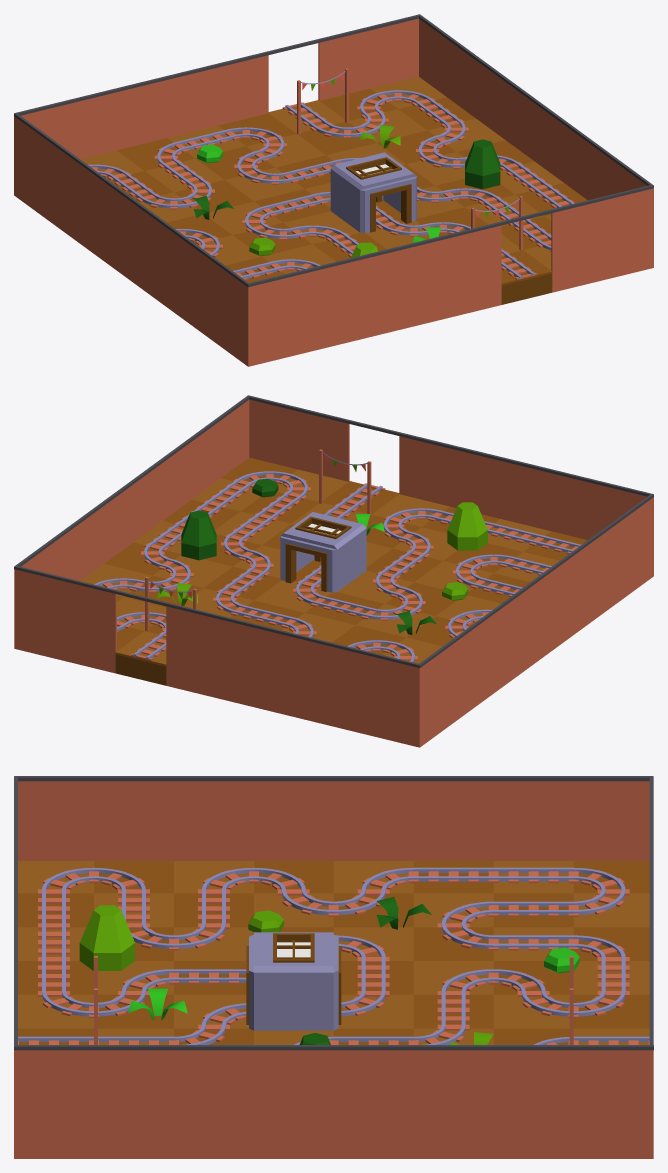
File: mineplatf.obj
3 renders of one model, top to bottom at view 1: azimuth 30°, elevation 25°; view 2: azimuth 150°, elevation 25°; view 3: azimuth 270°, elevation 25°, orthographic. The views are drawn at different scales.
Visible parts, largest first — view 1: porch_floorCenter, floor, track_mineCurve, track_mineStraight, detail_fence_center, window_decorativeLarge, leafs_cone, doorway_wide, wall, poles_garlandFlags, plant_large, leafs_round; view 2: porch_floorCenter, floor, track_mineCurve, track_mineStraight, detail_fence_center, leafs_cone, window_decorativeLarge, wall, doorway_wide, poles_garlandFlags, plant_large, leafs_round; view 3: porch_floorCenter, floor, track_mineCurve, track_mineStraight, detail_fence_center, wall, window_decorativeLarge, leafs_cone, plant_large, doorway_wide, leafs_round, poles_garlandFlags.
Part boxes in pixels (left/top/right/bottom): porch_floorCenter: left=14, top=18, right=653, bottom=366; floor: left=80, top=76, right=587, bottom=304; track_mineCurve: left=88, top=90, right=551, bottom=271; track_mineStraight: left=109, top=98, right=574, bottom=280; detail_fence_center: left=14, top=14, right=653, bottom=287; window_decorativeLarge: left=331, top=152, right=416, bottom=189; leafs_cone: left=351, top=139, right=500, bottom=257; doorway_wide: left=331, top=167, right=416, bottom=233; wall: left=330, top=169, right=416, bottom=232; poles_garlandFlags: left=297, top=68, right=523, bottom=250; plant_large: left=193, top=125, right=441, bottom=242; leafs_round: left=197, top=144, right=275, bottom=256; porch_floorCenter: left=14, top=399, right=653, bottom=747; floor: left=81, top=457, right=587, bottom=685; track_mineCurve: left=94, top=471, right=512, bottom=662; track_mineStraight: left=131, top=479, right=581, bottom=660; detail_fence_center: left=14, top=395, right=653, bottom=667; leafs_cone: left=181, top=502, right=487, bottom=560; window_decorativeLarge: left=280, top=512, right=366, bottom=549; wall: left=280, top=528, right=366, bottom=592; doorway_wide: left=280, top=526, right=365, bottom=592; poles_garlandFlags: left=145, top=449, right=371, bottom=631; plant_large: left=156, top=514, right=436, bottom=634; leafs_round: left=252, top=478, right=468, bottom=600; porch_floorCenter: left=14, top=781, right=653, bottom=1158; floor: left=18, top=861, right=649, bottom=1044; track_mineCurve: left=38, top=867, right=629, bottom=1044; track_mineStraight: left=18, top=867, right=649, bottom=1044; detail_fence_center: left=14, top=776, right=653, bottom=1050; wall: left=249, top=934, right=338, bottom=1030; window_decorativeLarge: left=254, top=932, right=333, bottom=972; leafs_cone: left=79, top=905, right=330, bottom=1044; plant_large: left=128, top=897, right=493, bottom=1044; doorway_wide: left=246, top=935, right=341, bottom=1030; leafs_round: left=248, top=910, right=579, bottom=973; poles_garlandFlags: left=94, top=956, right=573, bottom=1044.
Size of the model in its own units: 8.01 by 1.55 by 8.01.
